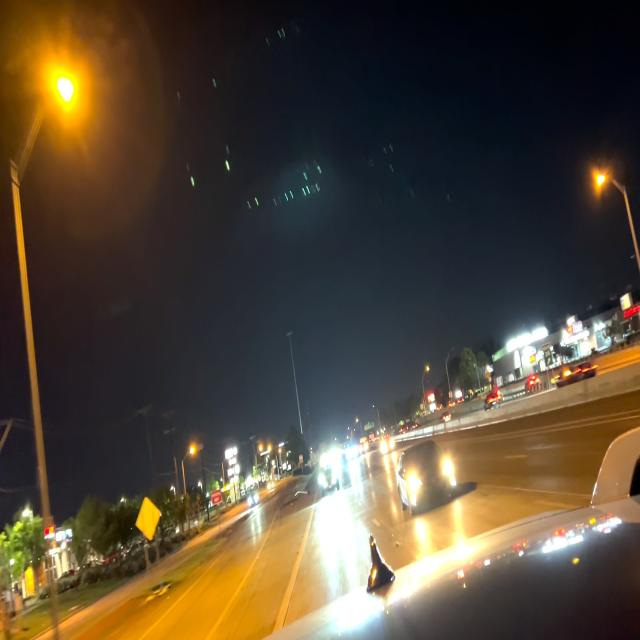back-of-sign: (135, 498, 159, 542)
